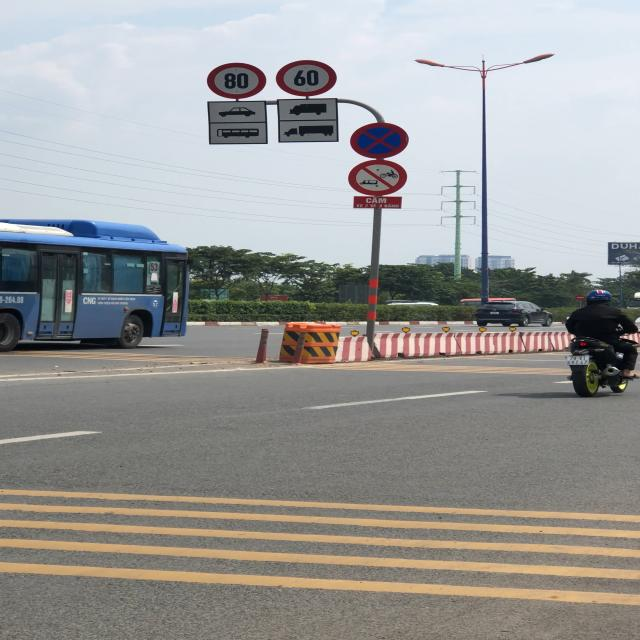Bien bao cam dung xe va do xe: (346, 118, 414, 158)
Bien bao toc do toi da cho phep: (204, 60, 268, 100), (275, 58, 338, 97)
